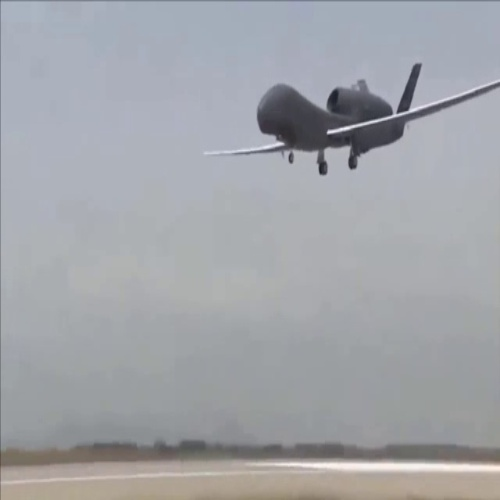uav887: (206, 58, 500, 179)
